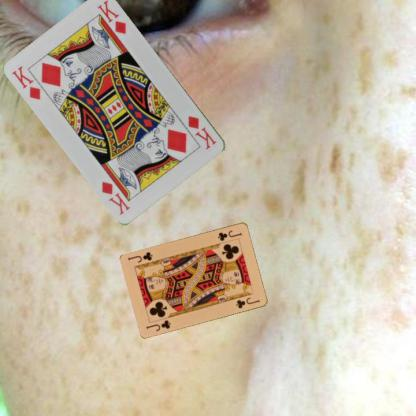Jc: (144, 317, 172, 332), (216, 228, 243, 242)
Kd: (9, 63, 43, 101), (185, 112, 218, 150)
